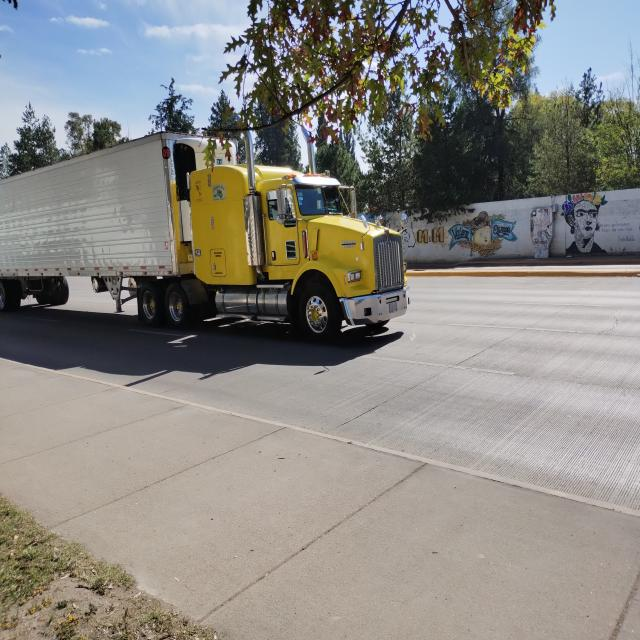Autobus: (0, 131, 414, 346)
